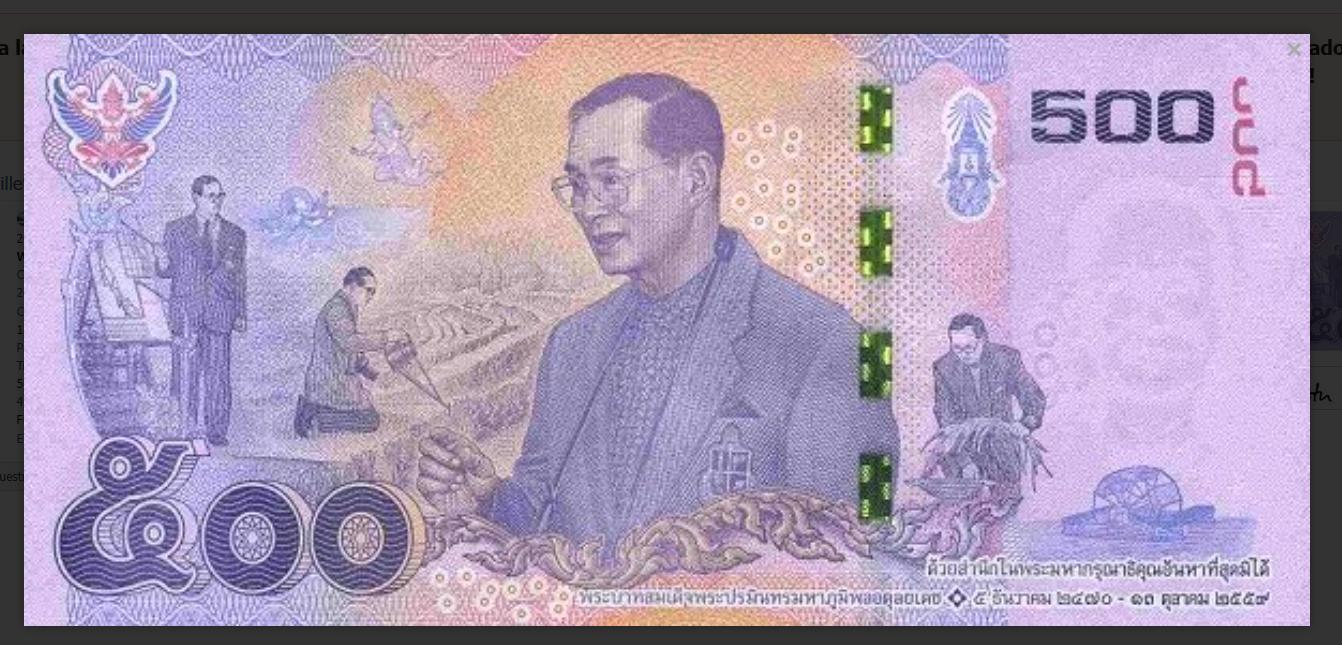500BahtTai: (29, 34, 1307, 629)
